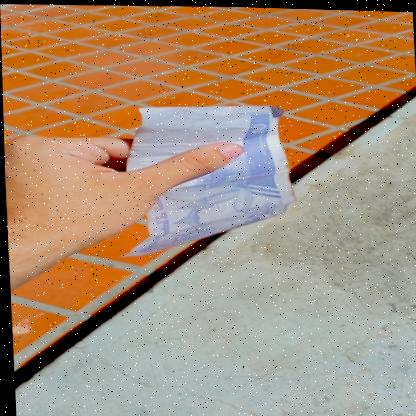vef_back: (113, 102, 297, 258)
